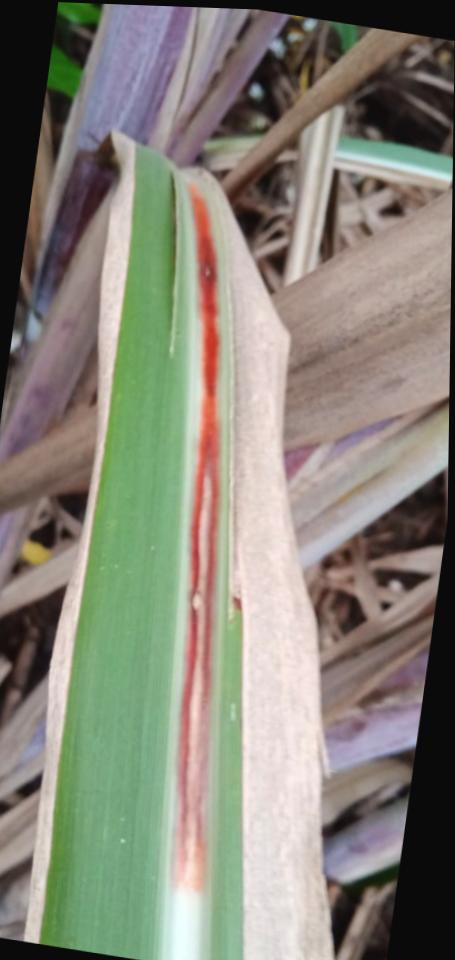RedRot: (167, 177, 228, 896)
